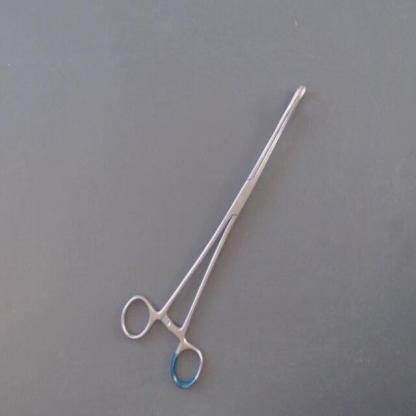Sponge Forceps: (115, 68, 314, 398)
